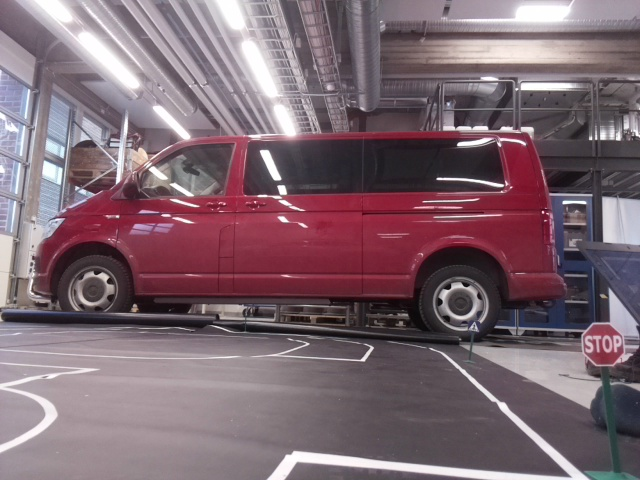Crosswalk: (469, 319, 480, 334)
Stop: (581, 321, 624, 367)
